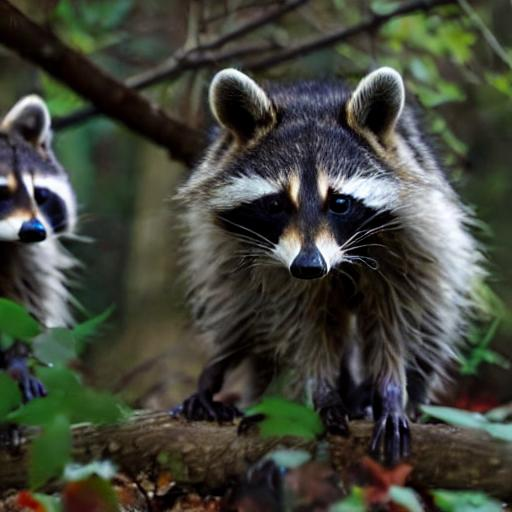raccoon: (154, 57, 499, 389), (0, 88, 98, 356)
